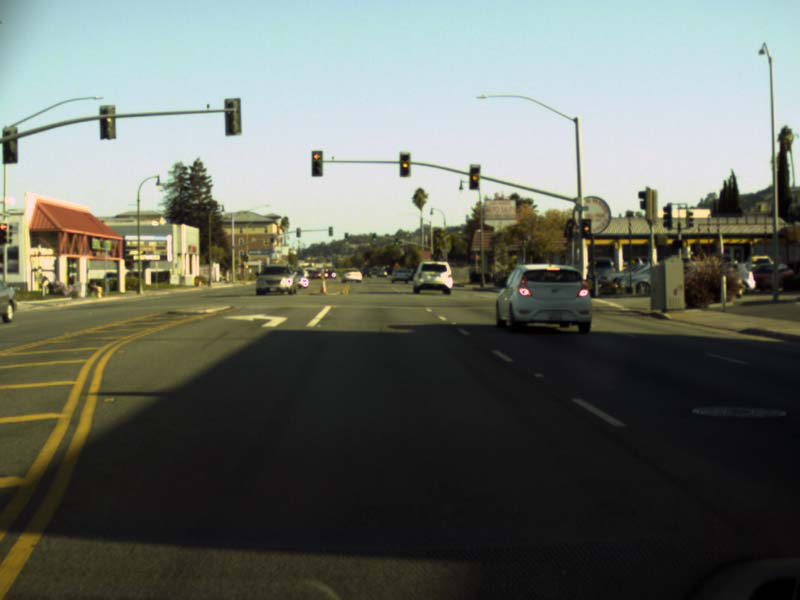Green: (394, 237, 399, 245), (371, 234, 376, 241), (344, 233, 347, 240)
Red: (311, 150, 322, 176)
Yellow: (398, 151, 410, 176), (469, 163, 479, 189), (580, 220, 590, 236)
